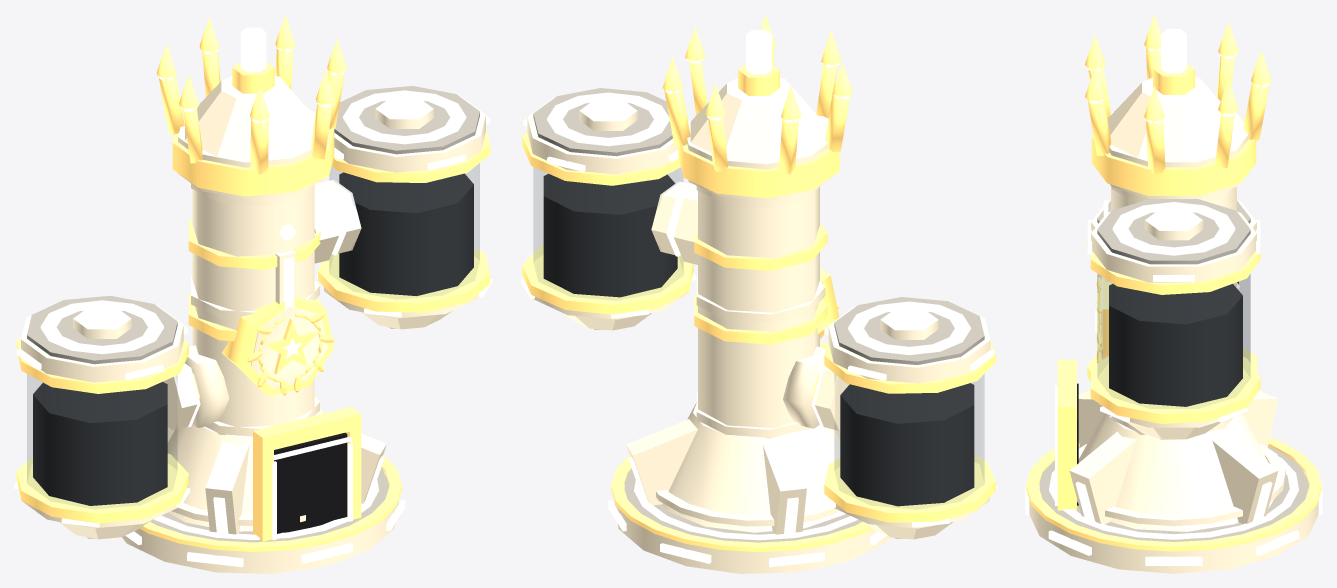
The model's file is Vat_Graduate_T2.glb.
3 renders of one model, left to right at view 1: azimuth 30°, elevation 25°; view 2: azimuth 150°, elevation 25°; view 3: azimuth 270°, elevation 25°, orthographic.
Visible parts, largest first — view 1: Vat_Graduate_T2; view 2: Vat_Graduate_T2; view 3: Vat_Graduate_T2.
Part boxes in pixels (x1,y1,x2,y2): Vat_Graduate_T2: (14, 14, 492, 573); Vat_Graduate_T2: (521, 14, 996, 573); Vat_Graduate_T2: (1025, 14, 1322, 573).
Size of the model in its own units: 6.43 by 6.62 by 3.68.
